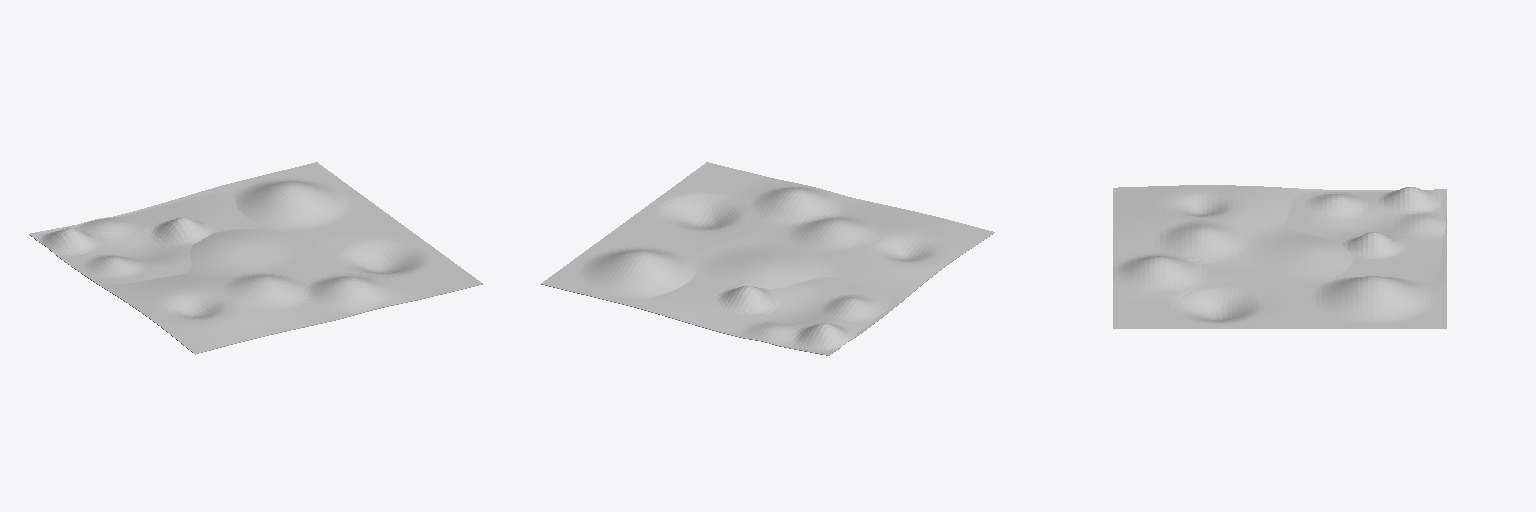
File: map2.obj
The picture shows the model from 3 angles: view 1: azimuth 30°, elevation 25°; view 2: azimuth 150°, elevation 25°; view 3: azimuth 270°, elevation 25°; orthographic projection.
Visible parts, largest first — view 1: good_terrain; view 2: good_terrain; view 3: good_terrain.
Boxes of the visible parts, x1=… form: good_terrain: x1=29, y1=162, x2=482, y2=354; good_terrain: x1=541, y1=162, x2=994, y2=355; good_terrain: x1=1113, y1=185, x2=1446, y2=328.
Bounding box in the file's own units: 4 × 0.4116 × 4.